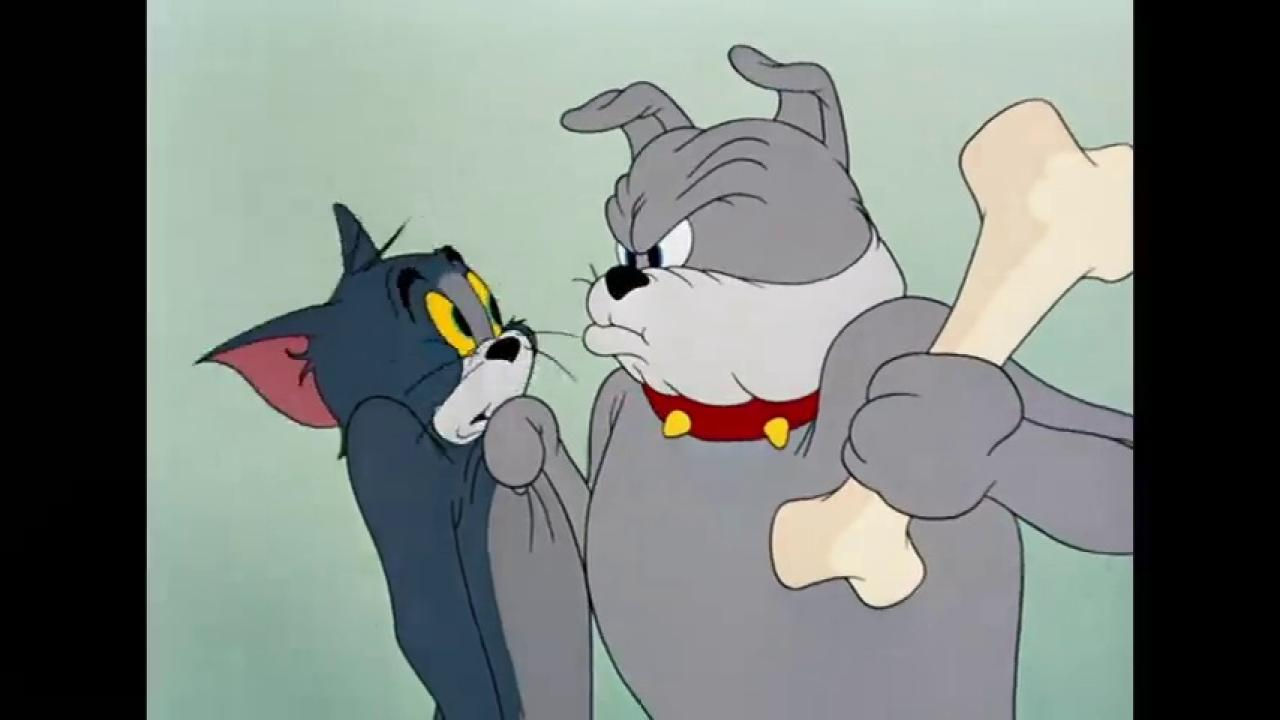Tom: (190, 199, 596, 720)
